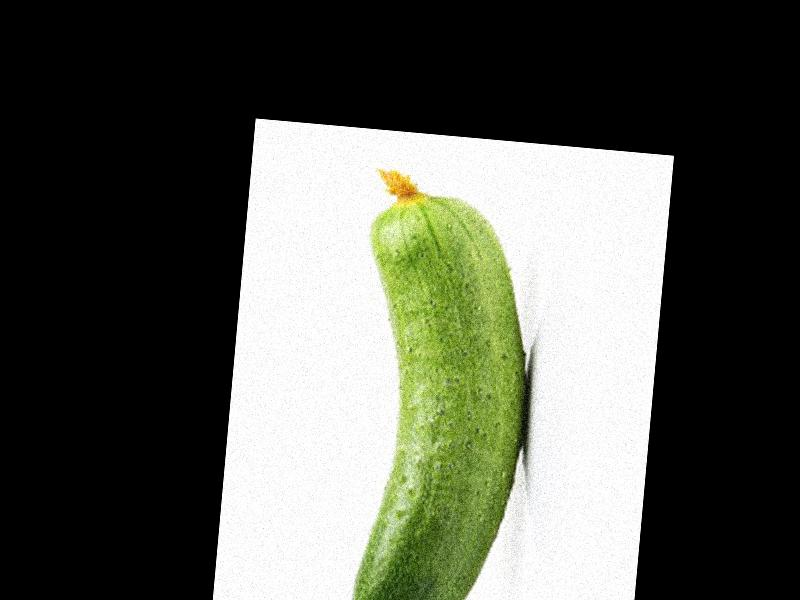Cucumber: (332, 164, 547, 600)
